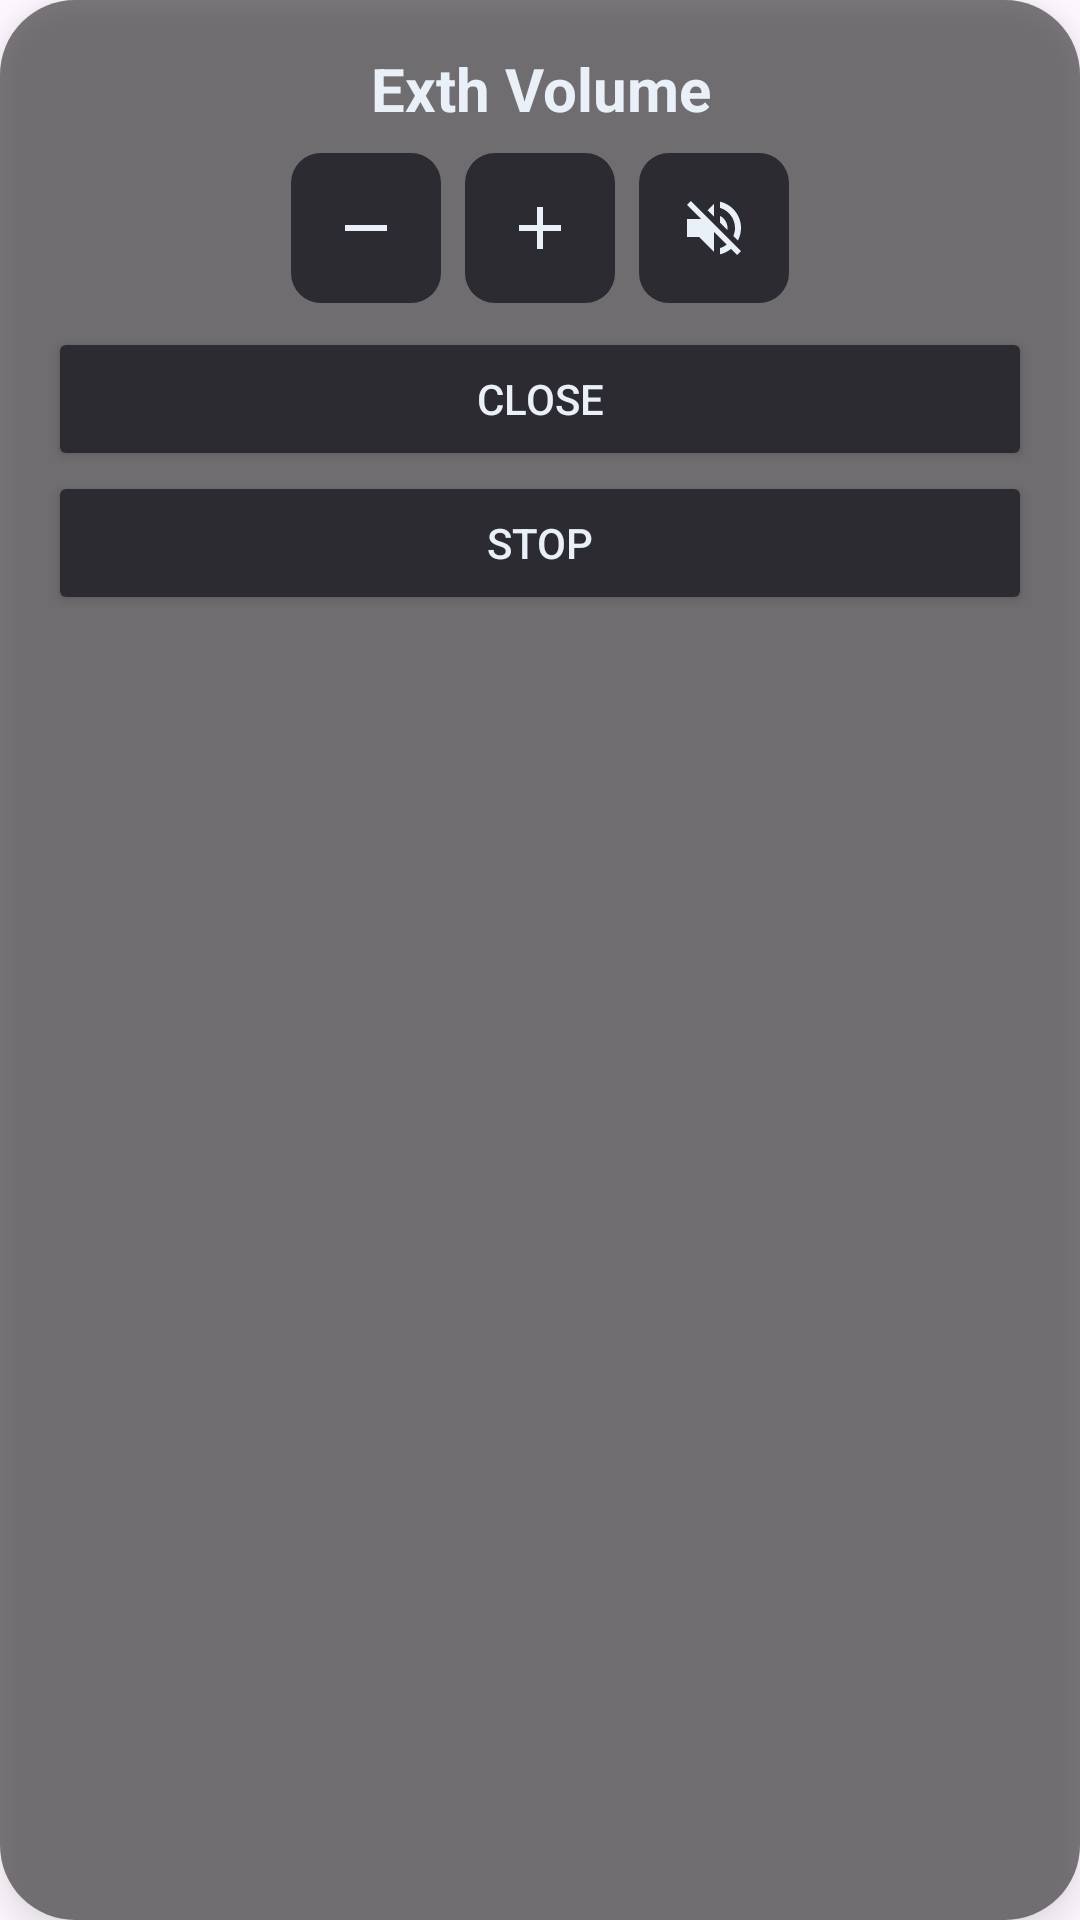

Icon bounding boxes for this 1080x1920 phone screenshot, format (x1, y1, x2, y2):
add: (465, 153, 615, 303)
mute: (639, 153, 789, 303)
remove: (291, 153, 441, 303)
